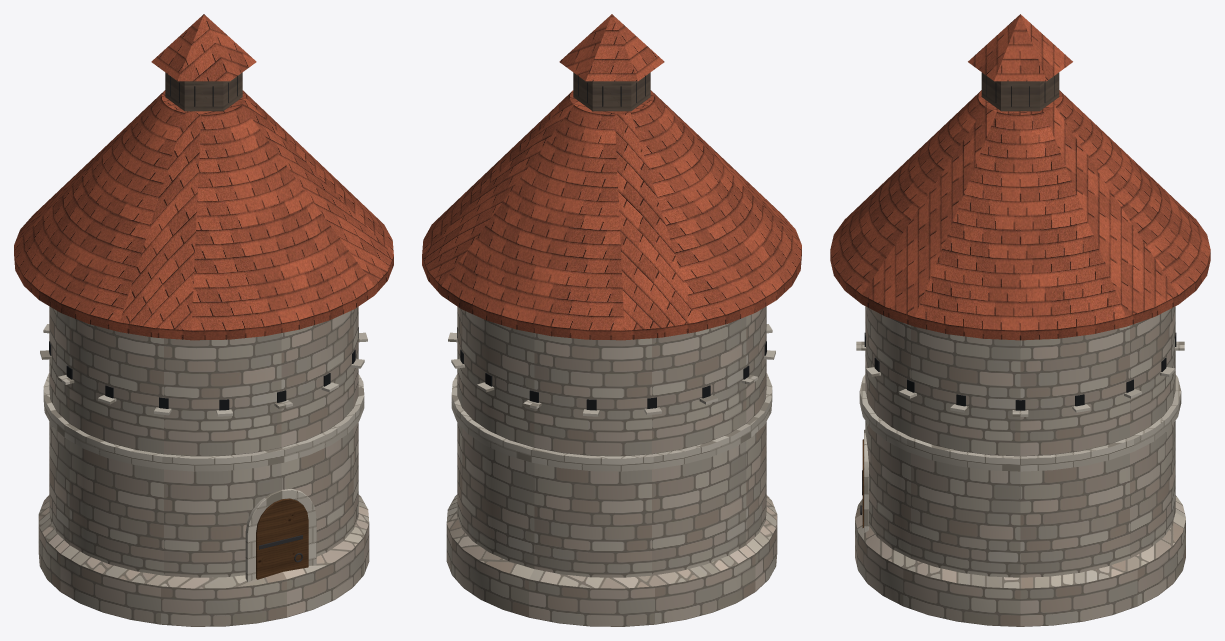
The model's file is dovecote.glb.
3 views of the same model, side by side, from view 1: azimuth 30°, elevation 25°; view 2: azimuth 150°, elevation 25°; view 3: azimuth 270°, elevation 25° (orthographic).
Visible parts, largest first — view 1: Dovecote; view 2: Dovecote; view 3: Dovecote.
Boxes of the visible parts, <box> form: Dovecote: <box>14,14,393,626</box>; Dovecote: <box>422,14,801,626</box>; Dovecote: <box>830,14,1210,626</box>.
Bounding box in the file's own units: 5.4 × 8.51 × 5.4.
Materials: 7 (5 with a texture image).
